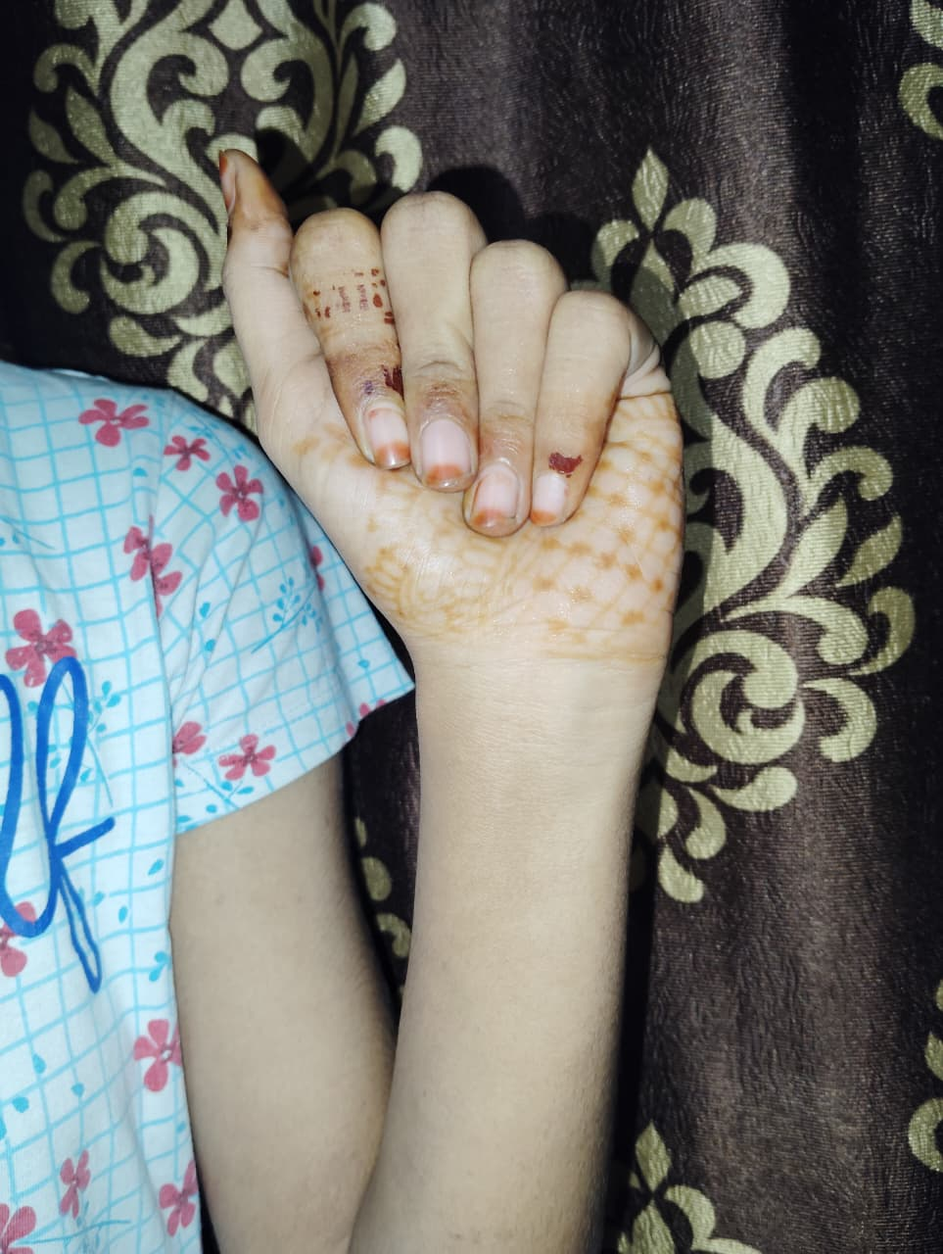A: (221, 148, 683, 680)
